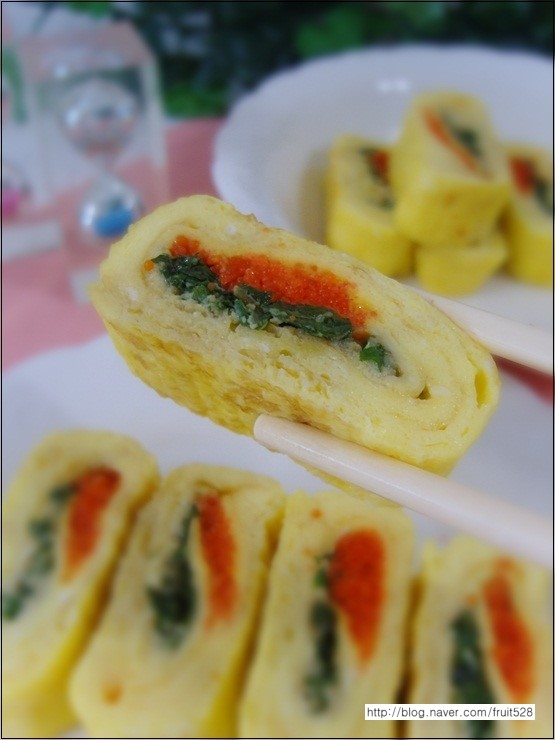gyelanmal-i: (11, 183, 551, 738)
